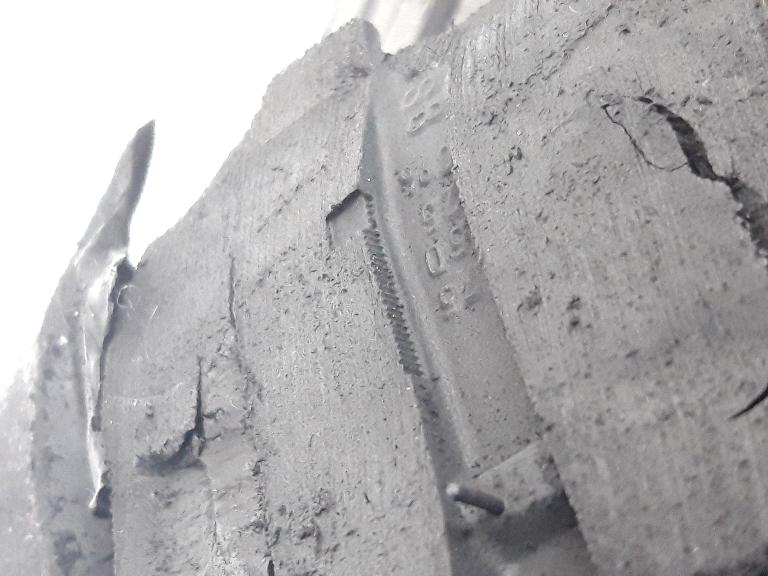temoin:25: (316, 179, 406, 292)
